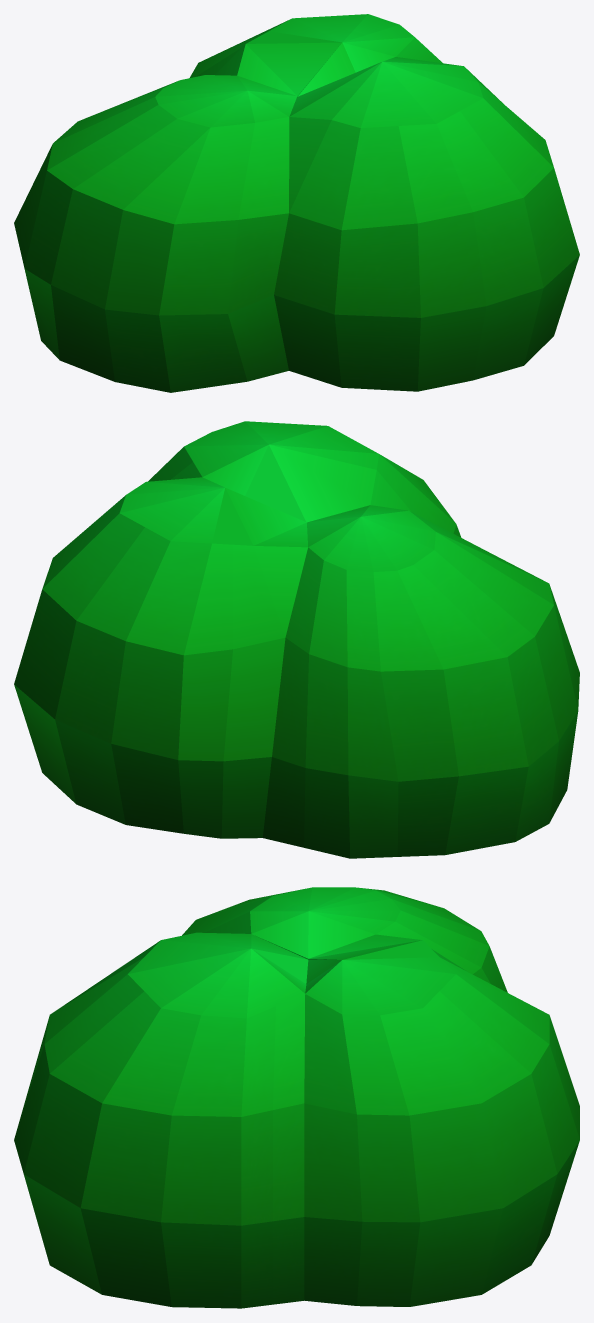
File: Bush_3.fbx
The picture shows the model from 3 angles, top to bottom: view 1: azimuth 30°, elevation 25°; view 2: azimuth 150°, elevation 25°; view 3: azimuth 270°, elevation 25°; orthographic projection. The views are drawn at different scales.
Visible parts, largest first — view 1: Sphere.003; view 2: Sphere.003; view 3: Sphere.003.
Part boxes in pixels (x1,y1,x2,y2): Sphere.003: (14,14,579,392); Sphere.003: (14,421,579,858); Sphere.003: (14,887,579,1308).
Bounding box in the file's own units: 1.84 × 1 × 1.75.
